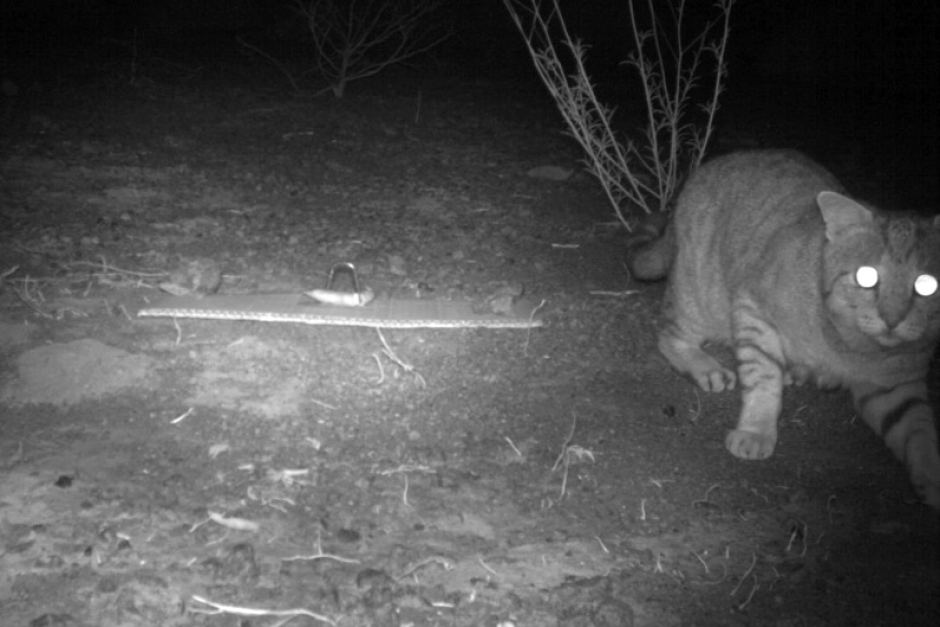house cat: (643, 166, 940, 503)
